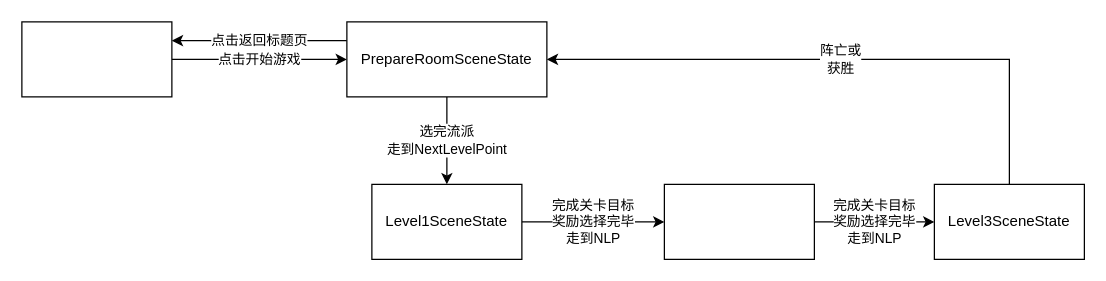
Image size: 1106x281. Some labels were removed from this diagram. Here are the shapes that lost their labels. From the top down, the box of each, then its label:
(21, 21, 172, 97): MenuSceneState
(663, 183, 814, 259): Level2SceneState
